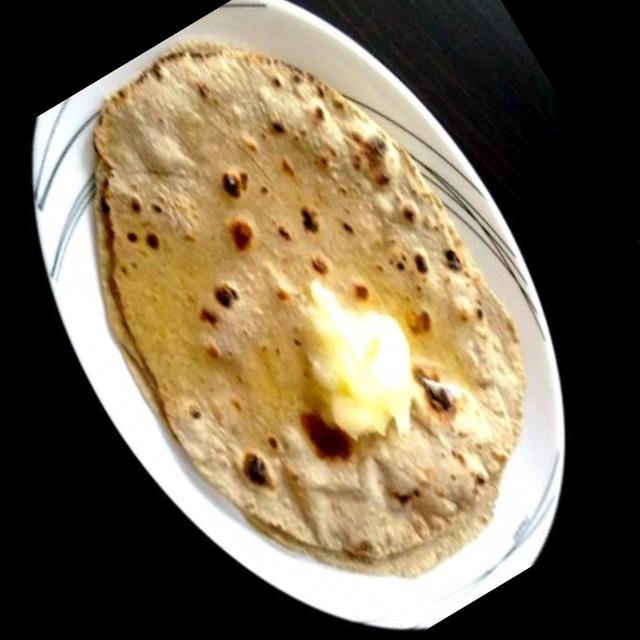roti: (74, 46, 513, 573)
